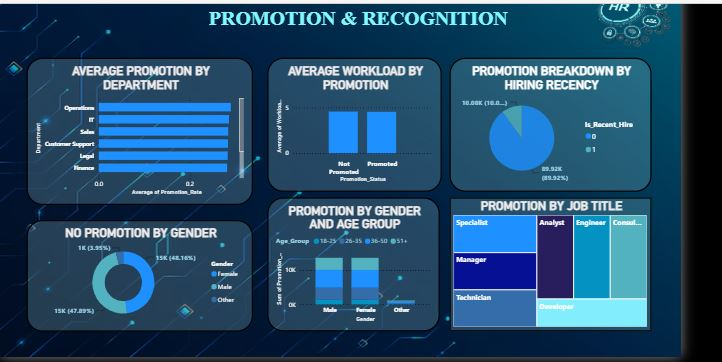

Layout of this report page (visuals, bound fields, positions):
{"tool":"powerbi","page":{"name":"Promo & Recog","canvas":[1280,720],"ordinal":6},"visuals":[{"type":"image","box":[1000.4,0,280.1,144.3],"z":0},{"type":"textbox","box":[387.3,56.5,592.8,62.1],"z":1000},{"type":"columnChart","title":"PROMOTION BY GENDER AND AGE GROUP","fields":{"Category":["cleaned_HR_analytics.Gender"],"Y":["Sum(cleaned_HR_analytics.Promotion_Rate)"],"Series":["cleaned_HR_analytics.Age_Group"]},"box":[501.3,421.2,324.1,251.8],"z":2000},{"type":"barChart","title":"AVERAGE PROMOTION BY DEPARTMENT","fields":{"Category":["cleaned_HR_analytics.Department"],"Y":["Avg(cleaned_HR_analytics.Promotion_Rate)"]},"box":[49.7,158.1,425.7,276.6],"z":3000},{"type":"donutChart","title":"NO PROMOTION BY GENDER","fields":{"Y":["cleaned_HR_analytics.High Productivity No Promo"],"Category":["cleaned_HR_analytics.Gender"]},"box":[50.8,463,425.7,210],"z":4000},{"type":"pieChart","title":"PROMOTION BREAKDOWN BY HIRING RECENCY","fields":{"Category":["cleaned_HR_analytics.Is_Recent_Hire"],"Y":["CountNonNull(cleaned_HR_analytics.Promotion_Status)"]},"box":[844.6,158.1,379.4,251.8],"z":5000},{"type":"columnChart","title":"AVERAGE WORKLOAD BY PROMOTION","fields":{"Category":["cleaned_HR_analytics.Promotion_Status"],"Y":["Avg(cleaned_HR_analytics.Workload_Index)"]},"box":[501.3,158.1,327.5,251.8],"z":6000},{"type":"treemap","title":"PROMOTION BY JOB TITLE","fields":{"Group":["cleaned_HR_analytics.Job_Title"],"Values":["CountNonNull(cleaned_HR_analytics.Promotions)"]},"box":[844.6,421.2,379.4,251.8],"z":7000}]}

Visuals, with their boxes on the page's 1280x720 design canvas (x1, y1, x2, y2). These are canvas units, not pixel positions in the 722x362 screenshot, which may show the page scaled, cropped or inside an application window:
image: region(1000, 0, 1280, 144)
textbox: region(387, 56, 980, 119)
"PROMOTION BY GENDER AND AGE GROUP" columnChart: region(501, 421, 825, 673)
"AVERAGE PROMOTION BY DEPARTMENT" barChart: region(50, 158, 475, 435)
"NO PROMOTION BY GENDER" donutChart: region(51, 463, 476, 673)
"PROMOTION BREAKDOWN BY HIRING RECENCY" pieChart: region(845, 158, 1224, 410)
"AVERAGE WORKLOAD BY PROMOTION" columnChart: region(501, 158, 829, 410)
"PROMOTION BY JOB TITLE" treemap: region(845, 421, 1224, 673)
